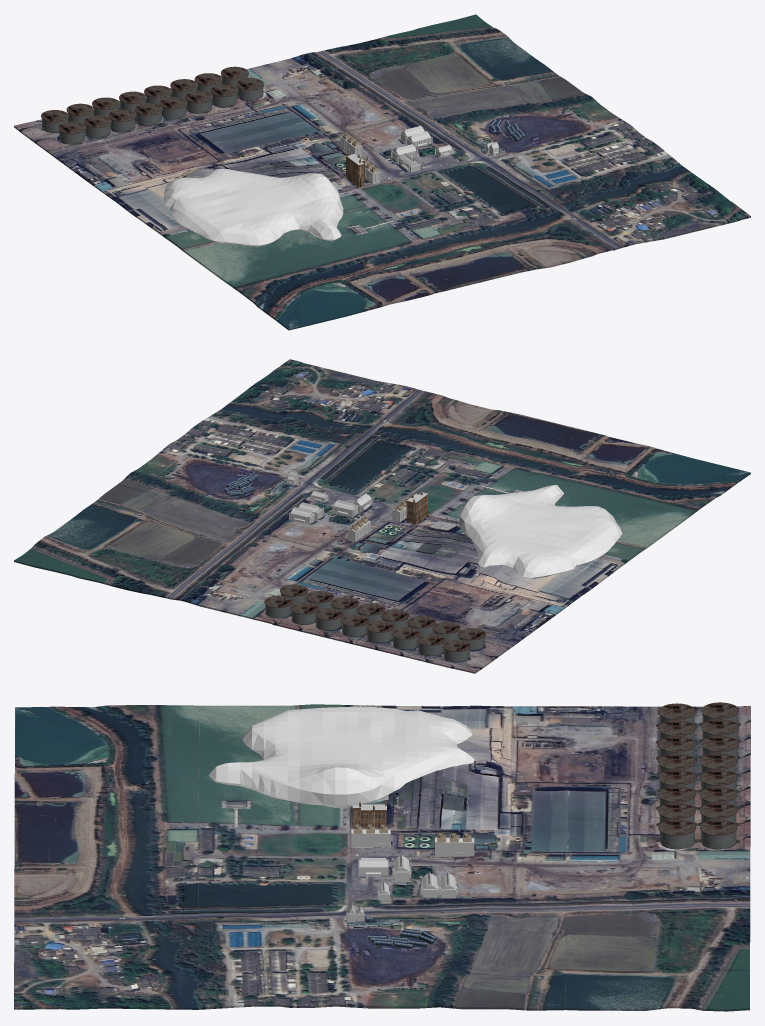
The model's file is animasihujan12.fbx.
The picture shows the model from 3 angles, top to bottom: view 1: azimuth 30°, elevation 25°; view 2: azimuth 150°, elevation 25°; view 3: azimuth 270°, elevation 25°; orthographic projection. The views are drawn at different scales.
Parts seen in each view (by area): view 1: BuildingMesh-00009.003, Cube.001, defaultMaterial.017, defaultMaterial.012, defaultMaterial.003, defaultMaterial.016, defaultMaterial.015, defaultMaterial.001, defaultMaterial.014, Cube, defaultMaterial.013; view 2: BuildingMesh-00009.003, Cube.001, Cube, defaultMaterial.005, defaultMaterial.011, defaultMaterial.008, defaultMaterial.010, defaultMaterial.006, defaultMaterial.007, defaultMaterial.009, defaultMaterial.004; view 3: BuildingMesh-00009.003, Cube.001, defaultMaterial.005, defaultMaterial.001, Cube, defaultMaterial.015, defaultMaterial.009, defaultMaterial.007, defaultMaterial.004, defaultMaterial.013, defaultMaterial.003, defaultMaterial.011 (+8 smaller).
Boxes of the visible parts, left/top/right/bottom form: BuildingMesh-00009.003: left=14, top=14, right=750, bottom=330; Cube.001: left=163, top=169, right=343, bottom=246; defaultMaterial.017: left=58, top=121, right=86, bottom=144; defaultMaterial.012: left=185, top=90, right=213, bottom=113; defaultMaterial.003: left=210, top=84, right=238, bottom=107; defaultMaterial.016: left=83, top=115, right=111, bottom=138; defaultMaterial.015: left=108, top=109, right=136, bottom=132; defaultMaterial.001: left=236, top=78, right=264, bottom=100; defaultMaterial.014: left=135, top=103, right=162, bottom=125; Cube: left=346, top=152, right=364, bottom=187; defaultMaterial.013: left=159, top=97, right=187, bottom=119; BuildingMesh-00009.003: left=14, top=359, right=750, bottom=673; Cube.001: left=458, top=485, right=622, bottom=578; Cube: left=406, top=491, right=428, bottom=524; defaultMaterial.005: left=264, top=595, right=292, bottom=618; defaultMaterial.011: left=443, top=639, right=471, bottom=662; defaultMaterial.008: left=366, top=620, right=394, bottom=643; defaultMaterial.010: left=417, top=633, right=445, bottom=656; defaultMaterial.006: left=315, top=608, right=342, bottom=630; defaultMaterial.007: left=341, top=614, right=369, bottom=637; defaultMaterial.009: left=392, top=627, right=419, bottom=649; defaultMaterial.004: left=290, top=602, right=318, bottom=624; BuildingMesh-00009.003: left=14, top=704, right=750, bottom=1011; Cube.001: left=209, top=706, right=474, bottom=807; defaultMaterial.005: left=697, top=819, right=739, bottom=850; defaultMaterial.001: left=656, top=819, right=697, bottom=850; Cube: left=352, top=801, right=386, bottom=828; defaultMaterial.015: left=656, top=736, right=698, bottom=759; defaultMaterial.009: left=699, top=735, right=741, bottom=759; defaultMaterial.007: left=697, top=769, right=739, bottom=792; defaultMaterial.004: left=698, top=802, right=739, bottom=825; defaultMaterial.013: left=656, top=769, right=697, bottom=792; defaultMaterial.003: left=656, top=802, right=698, bottom=825; defaultMaterial.011: left=699, top=702, right=741, bottom=725.
Size of the model in its own units: 4153 by 348 by 4291.
